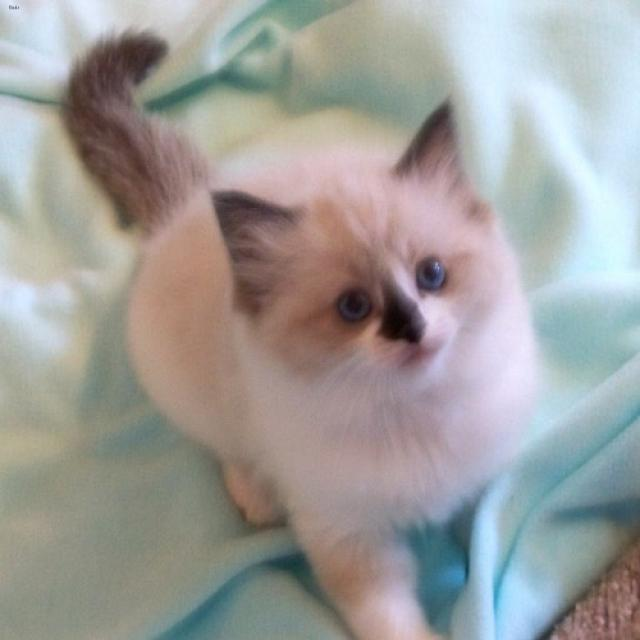Ragdoll: (210, 98, 480, 380)
